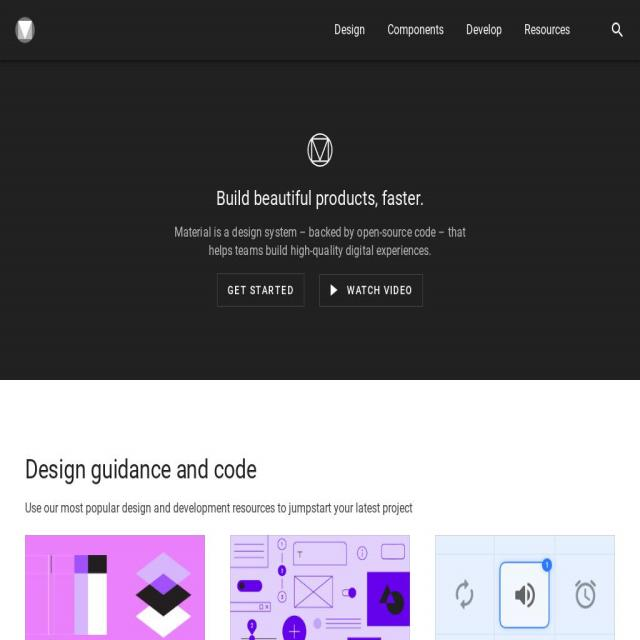navigation-blocks: (26, 528, 615, 640)
navigation-links: (326, 12, 575, 46)
search: (595, 13, 636, 42)
